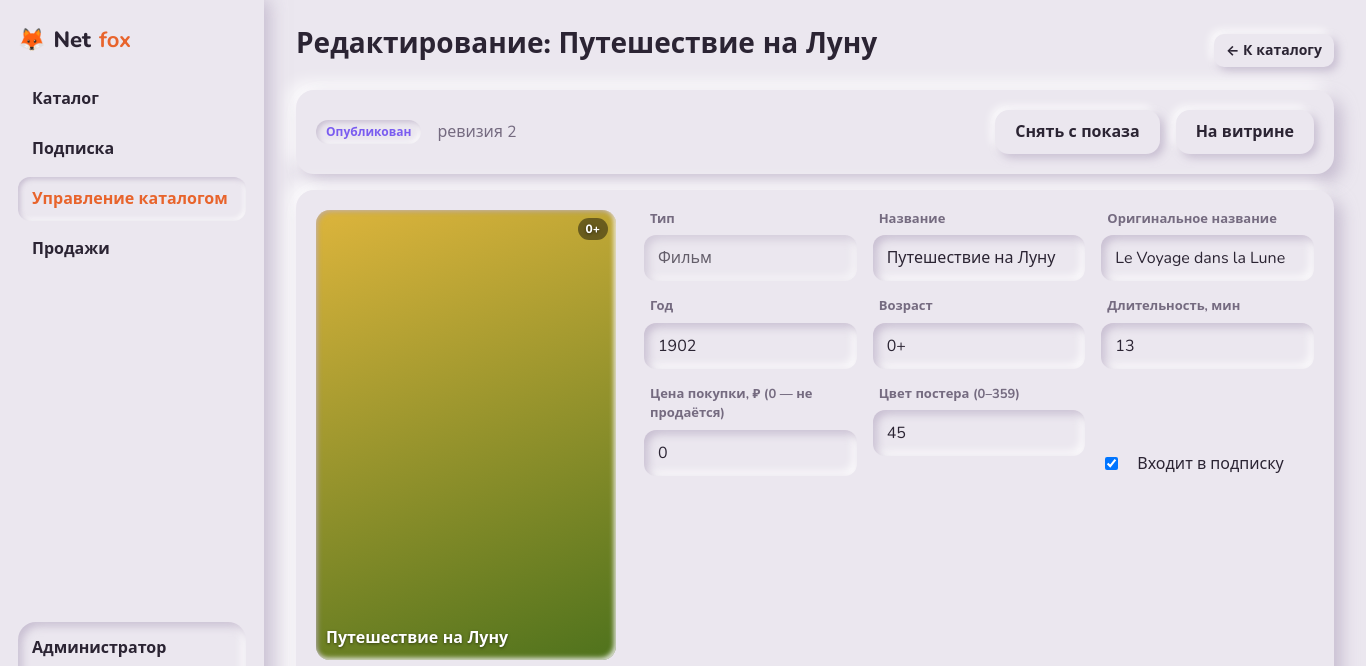
Test: администратор: каталог и продажи › снимает фильм с показа с причиной; зритель его больше не видит
The width and height of the screenshot is (1366, 666).
Step 1. Click the button "Снять с показа" → (1077, 132), box x1=995 y1=110 x2=1160 y2=154
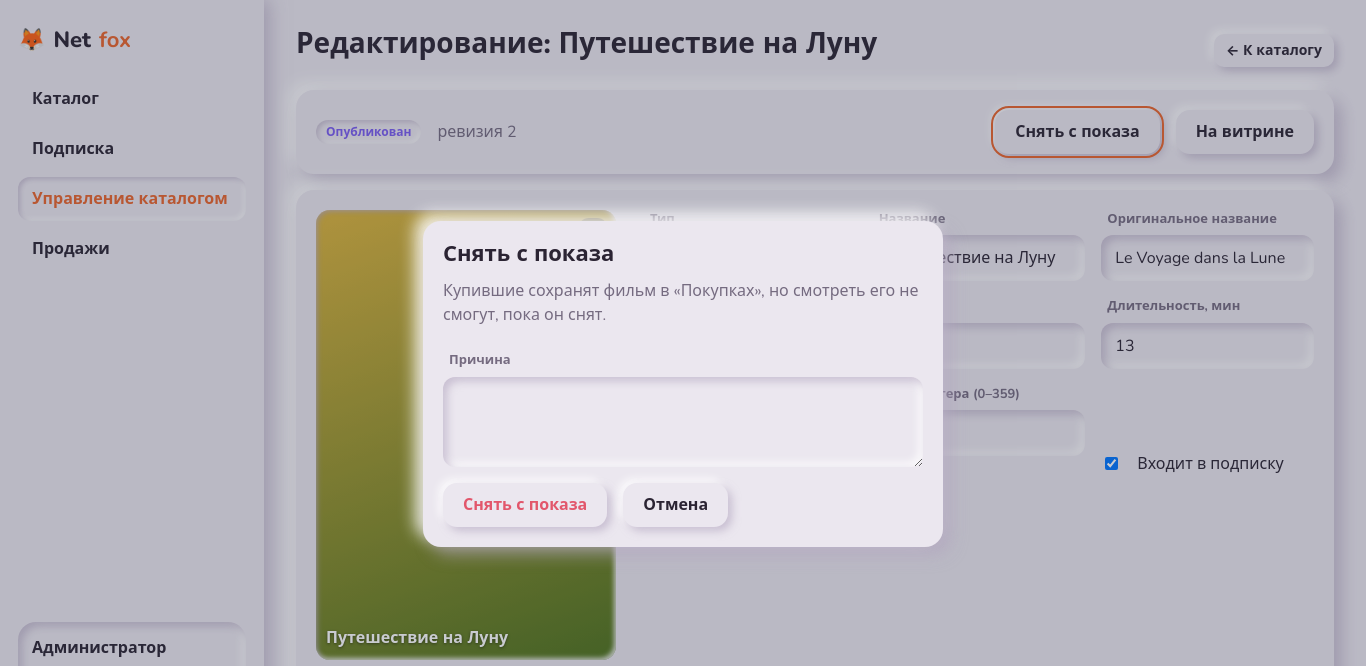
Step 2. Type "Истекли права" into the text box labelled "Причина" → (683, 422), box x1=443 y1=377 x2=923 y2=467
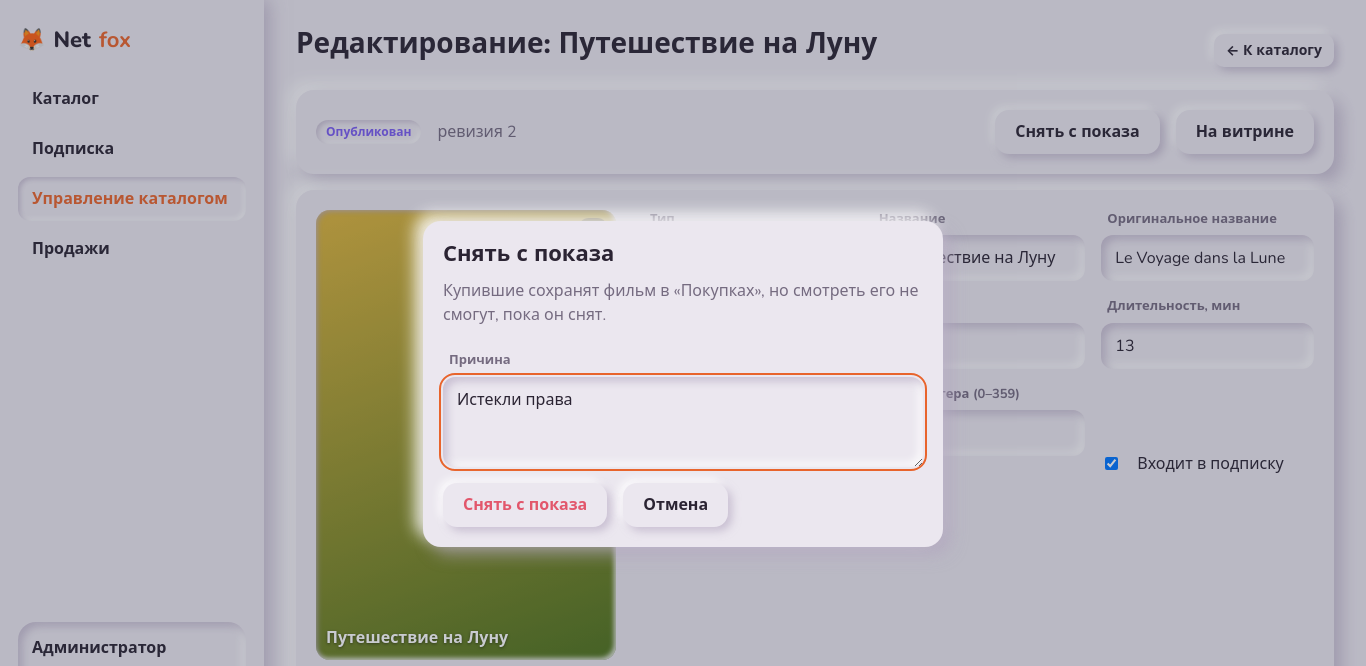
Step 3. Click the button "Снять с показа" → (525, 505), box x1=443 y1=483 x2=607 y2=527
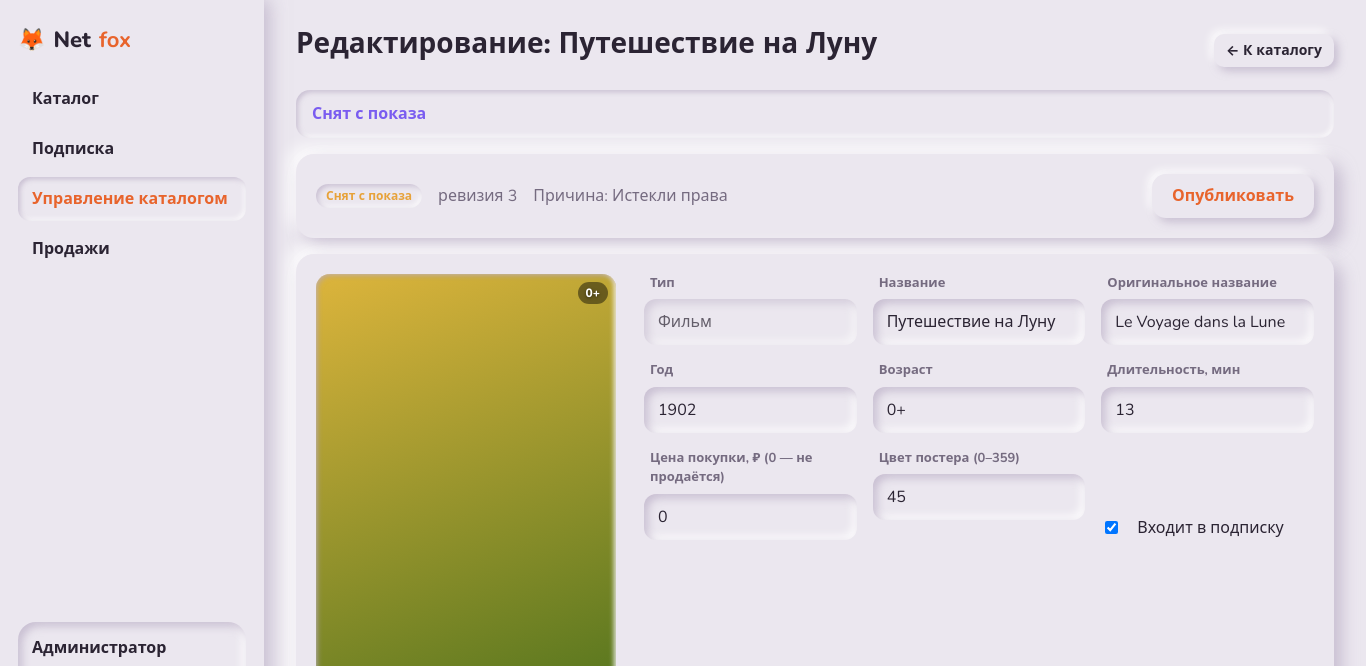
Result: the text "Причина: Истекли права" is shown at x1=533 y1=184 x2=728 y2=208
